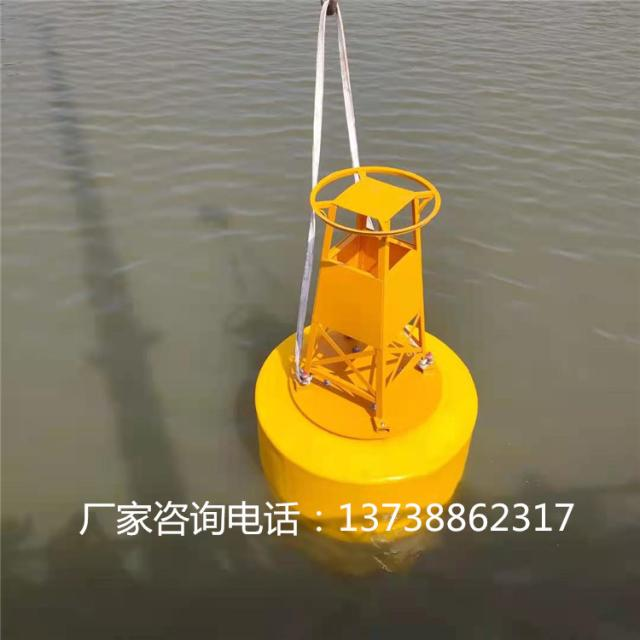buoy: (259, 162, 470, 528)
